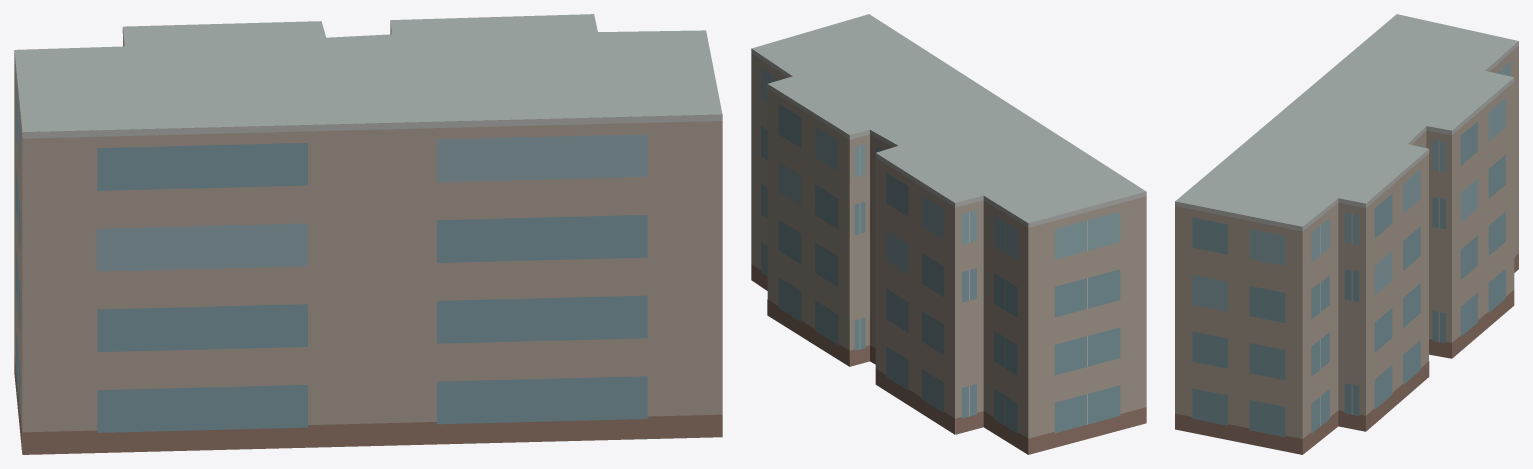
Rendered from survey-upis-32681090.glb.
3 views of the same model, side by side, from view 1: azimuth 30°, elevation 25°; view 2: azimuth 150°, elevation 25°; view 3: azimuth 270°, elevation 25° (orthographic). The views are drawn at different scales.
Parts seen in each view (by area): view 1: survey-upis-32681090.tmp; view 2: survey-upis-32681090.tmp; view 3: survey-upis-32681090.tmp.
Boxes of the visible parts, bbox=[...] form: survey-upis-32681090.tmp: bbox=[14, 14, 722, 454]; survey-upis-32681090.tmp: bbox=[751, 14, 1146, 454]; survey-upis-32681090.tmp: bbox=[1175, 14, 1518, 454].
Size of the model in its own units: 24.42 by 12.2 by 16.67.
